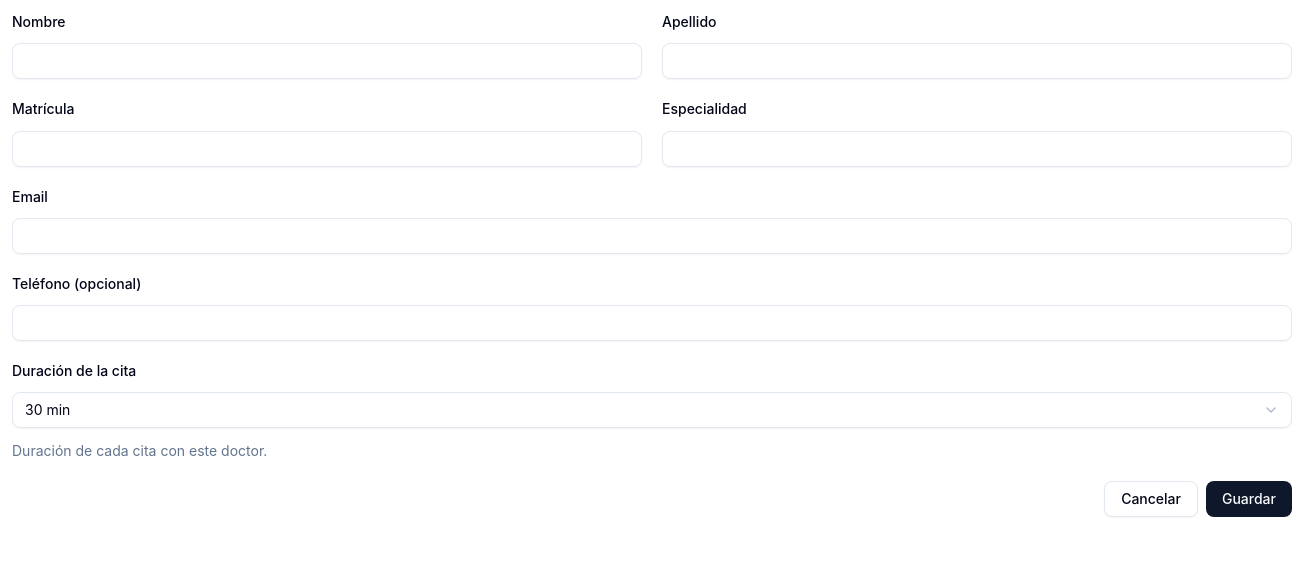
it: DoctorForm › rejects an invalid email
Type "  Luis " into the field labelled "Nombre".
click(327, 61); type("  Luis ")  # box [12,43,642,79]
Type "Mora" into the field labelled "Apellido".
click(977, 61); type("Mora")  # box [662,43,1292,79]
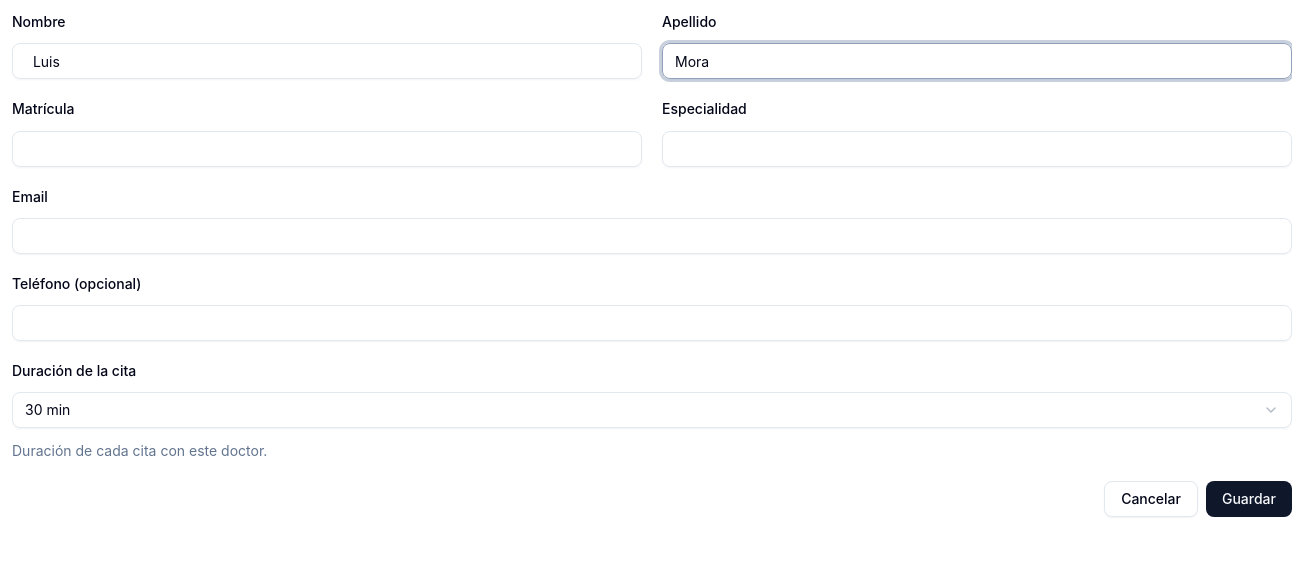
Type " mp-12345 " into the field labelled "Matrícula".
click(327, 148); type(" mp-12345 ")  # box [12,130,642,166]
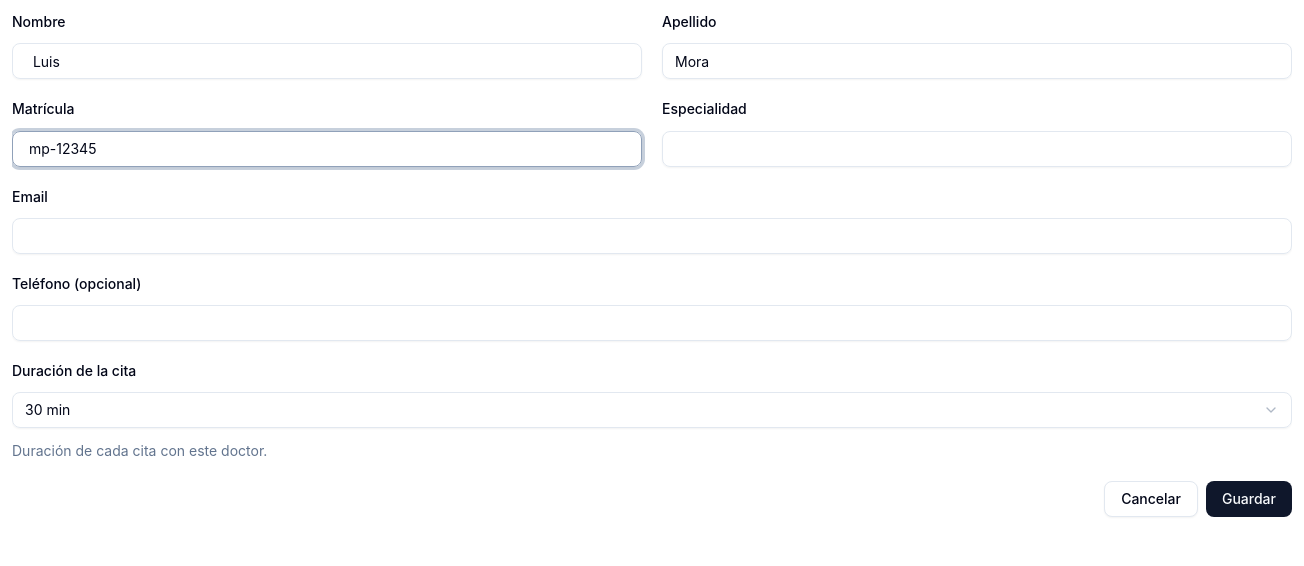
Type "Pediatría" into the field labelled "Especialidad".
click(977, 148); type("Pediatría")  # box [662,130,1292,166]
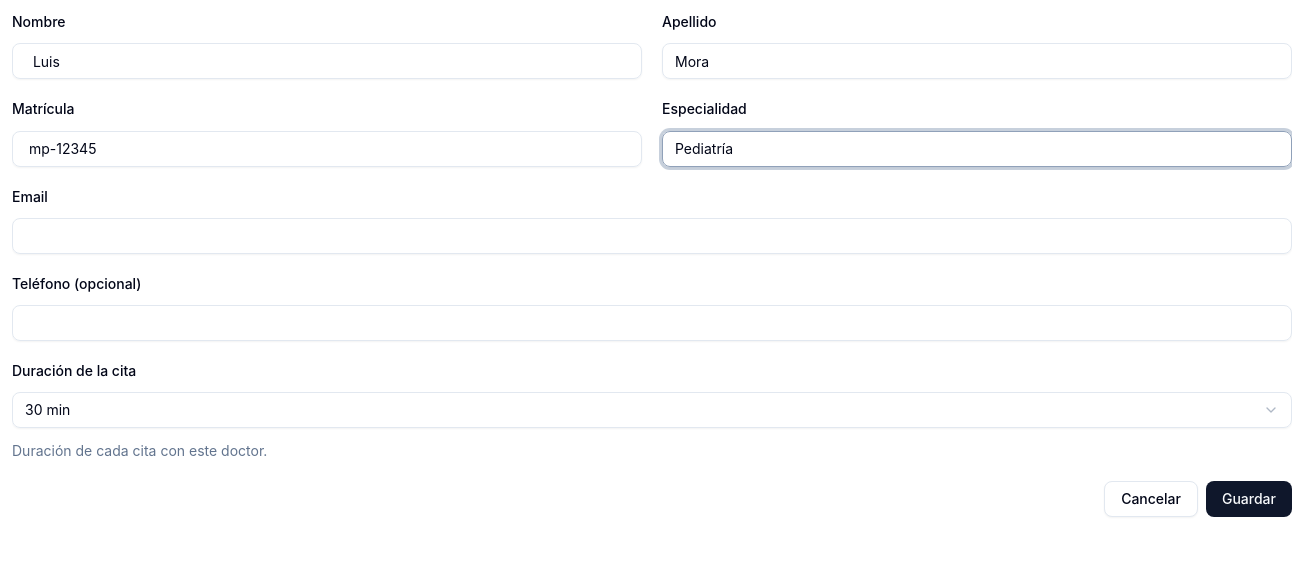
Type "luis.mora@dispensario.local" into the field labelled "Email".
click(652, 236); type("luis.mora@dispensario.local")  # box [12,218,1292,254]
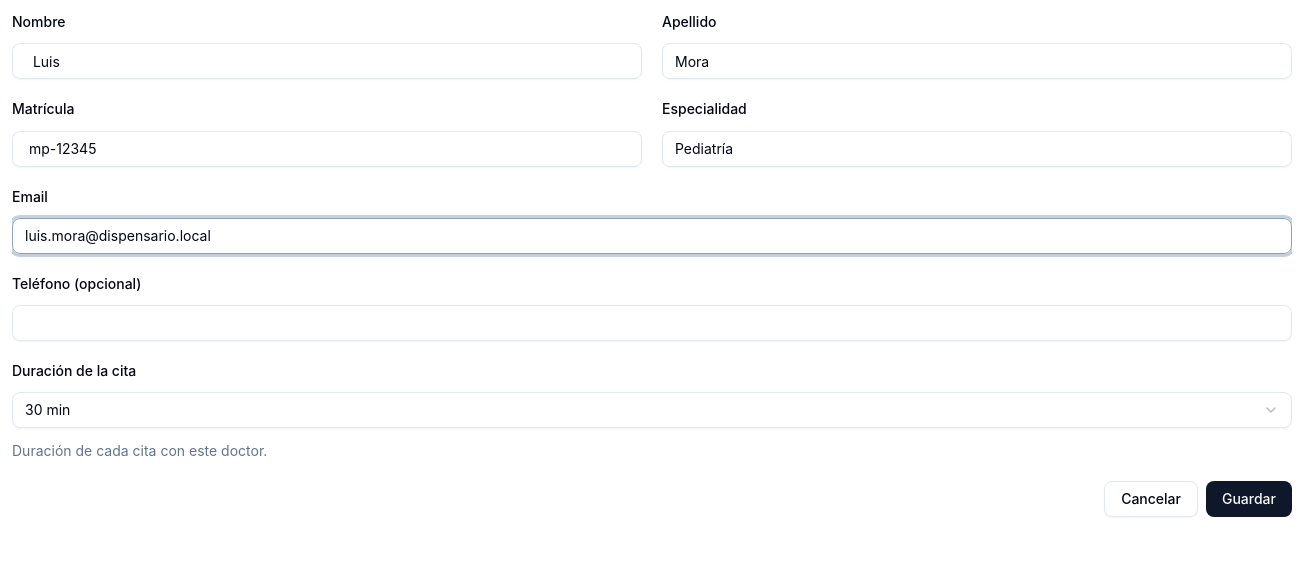
Replace the text in the field labelled "Email" with "not-an-email" at (652,236), box [12,218,1292,254]
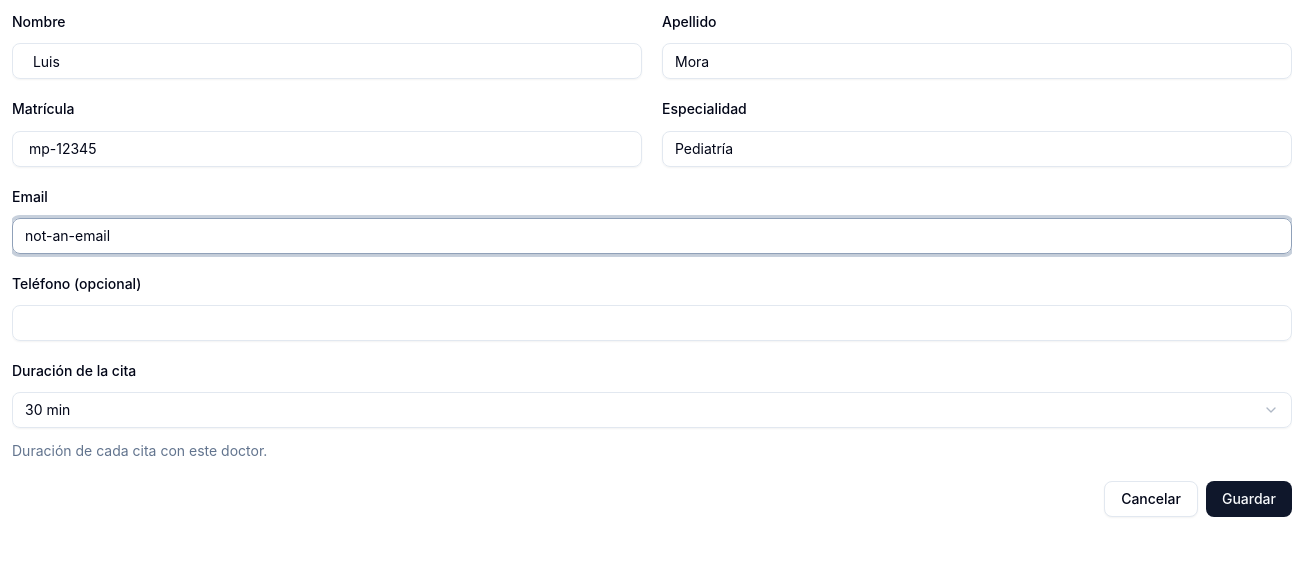
Click the button "Guardar".
click(1249, 499)  # box [1206,481,1292,517]
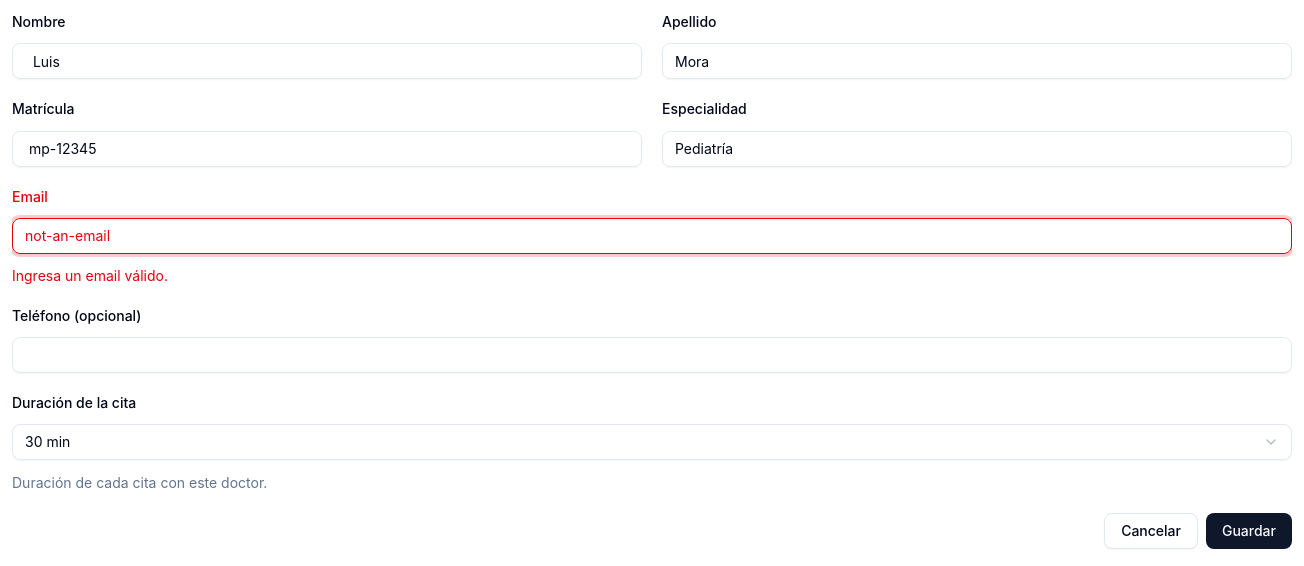
Result: the text "Ingresa un email válido." is shown at [12,267,168,284]
